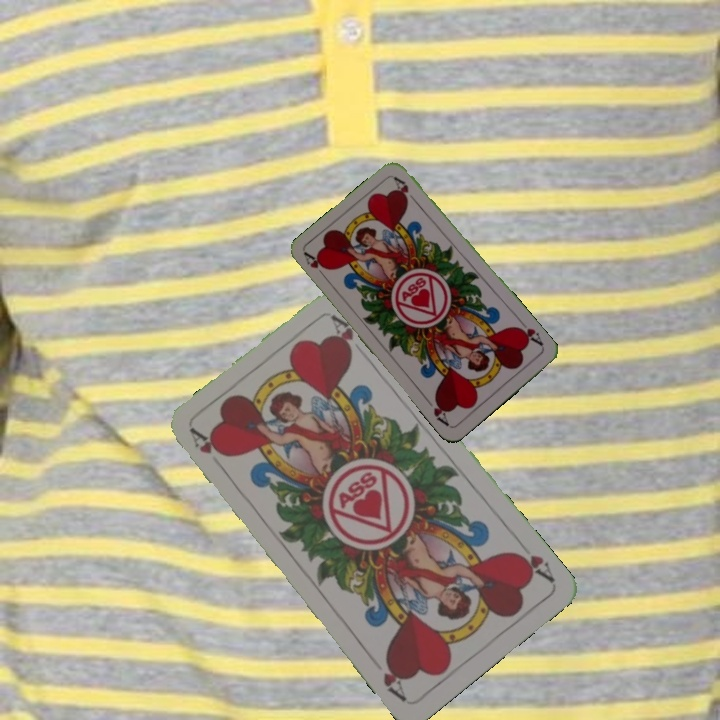HA: (187, 425, 230, 476), (508, 546, 557, 586), (511, 316, 546, 348), (300, 249, 331, 284)
